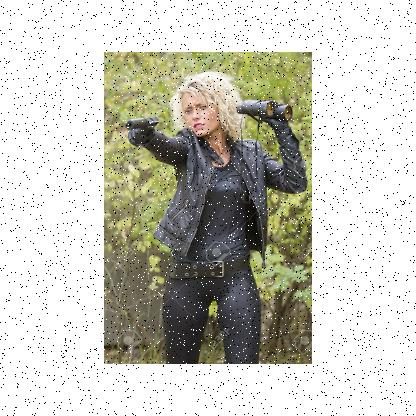gun: (122, 115, 158, 146)
